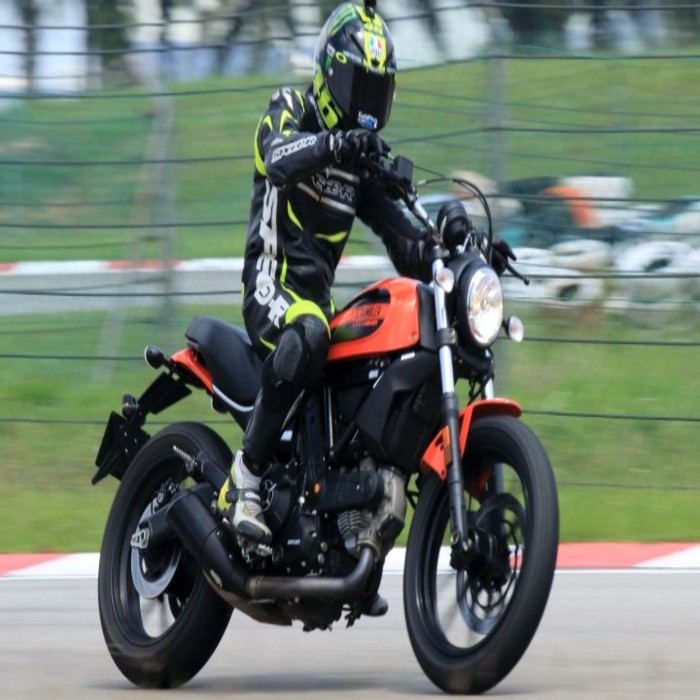h: (309, 1, 399, 152)
